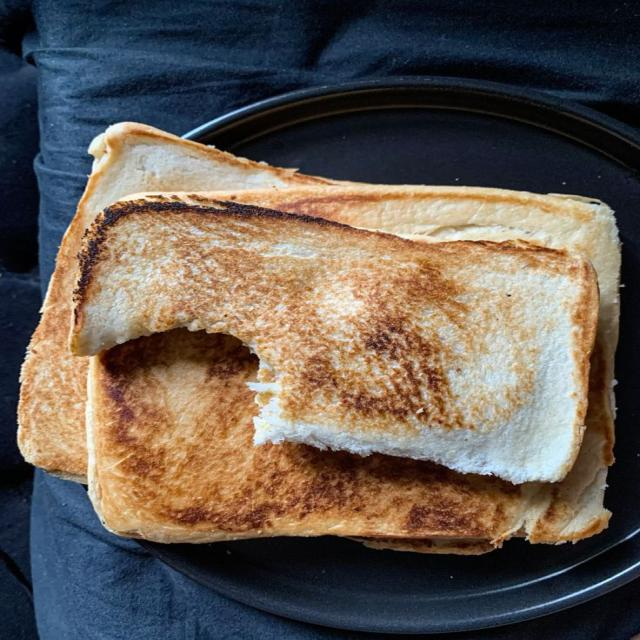toast bread: (18, 123, 612, 481), (69, 198, 598, 482), (86, 329, 615, 554), (437, 187, 618, 294), (561, 414, 612, 532)
